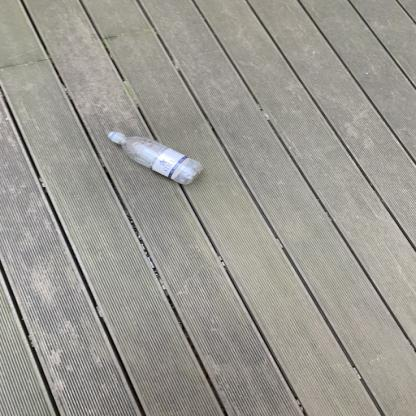trash: (108, 130, 206, 188)
